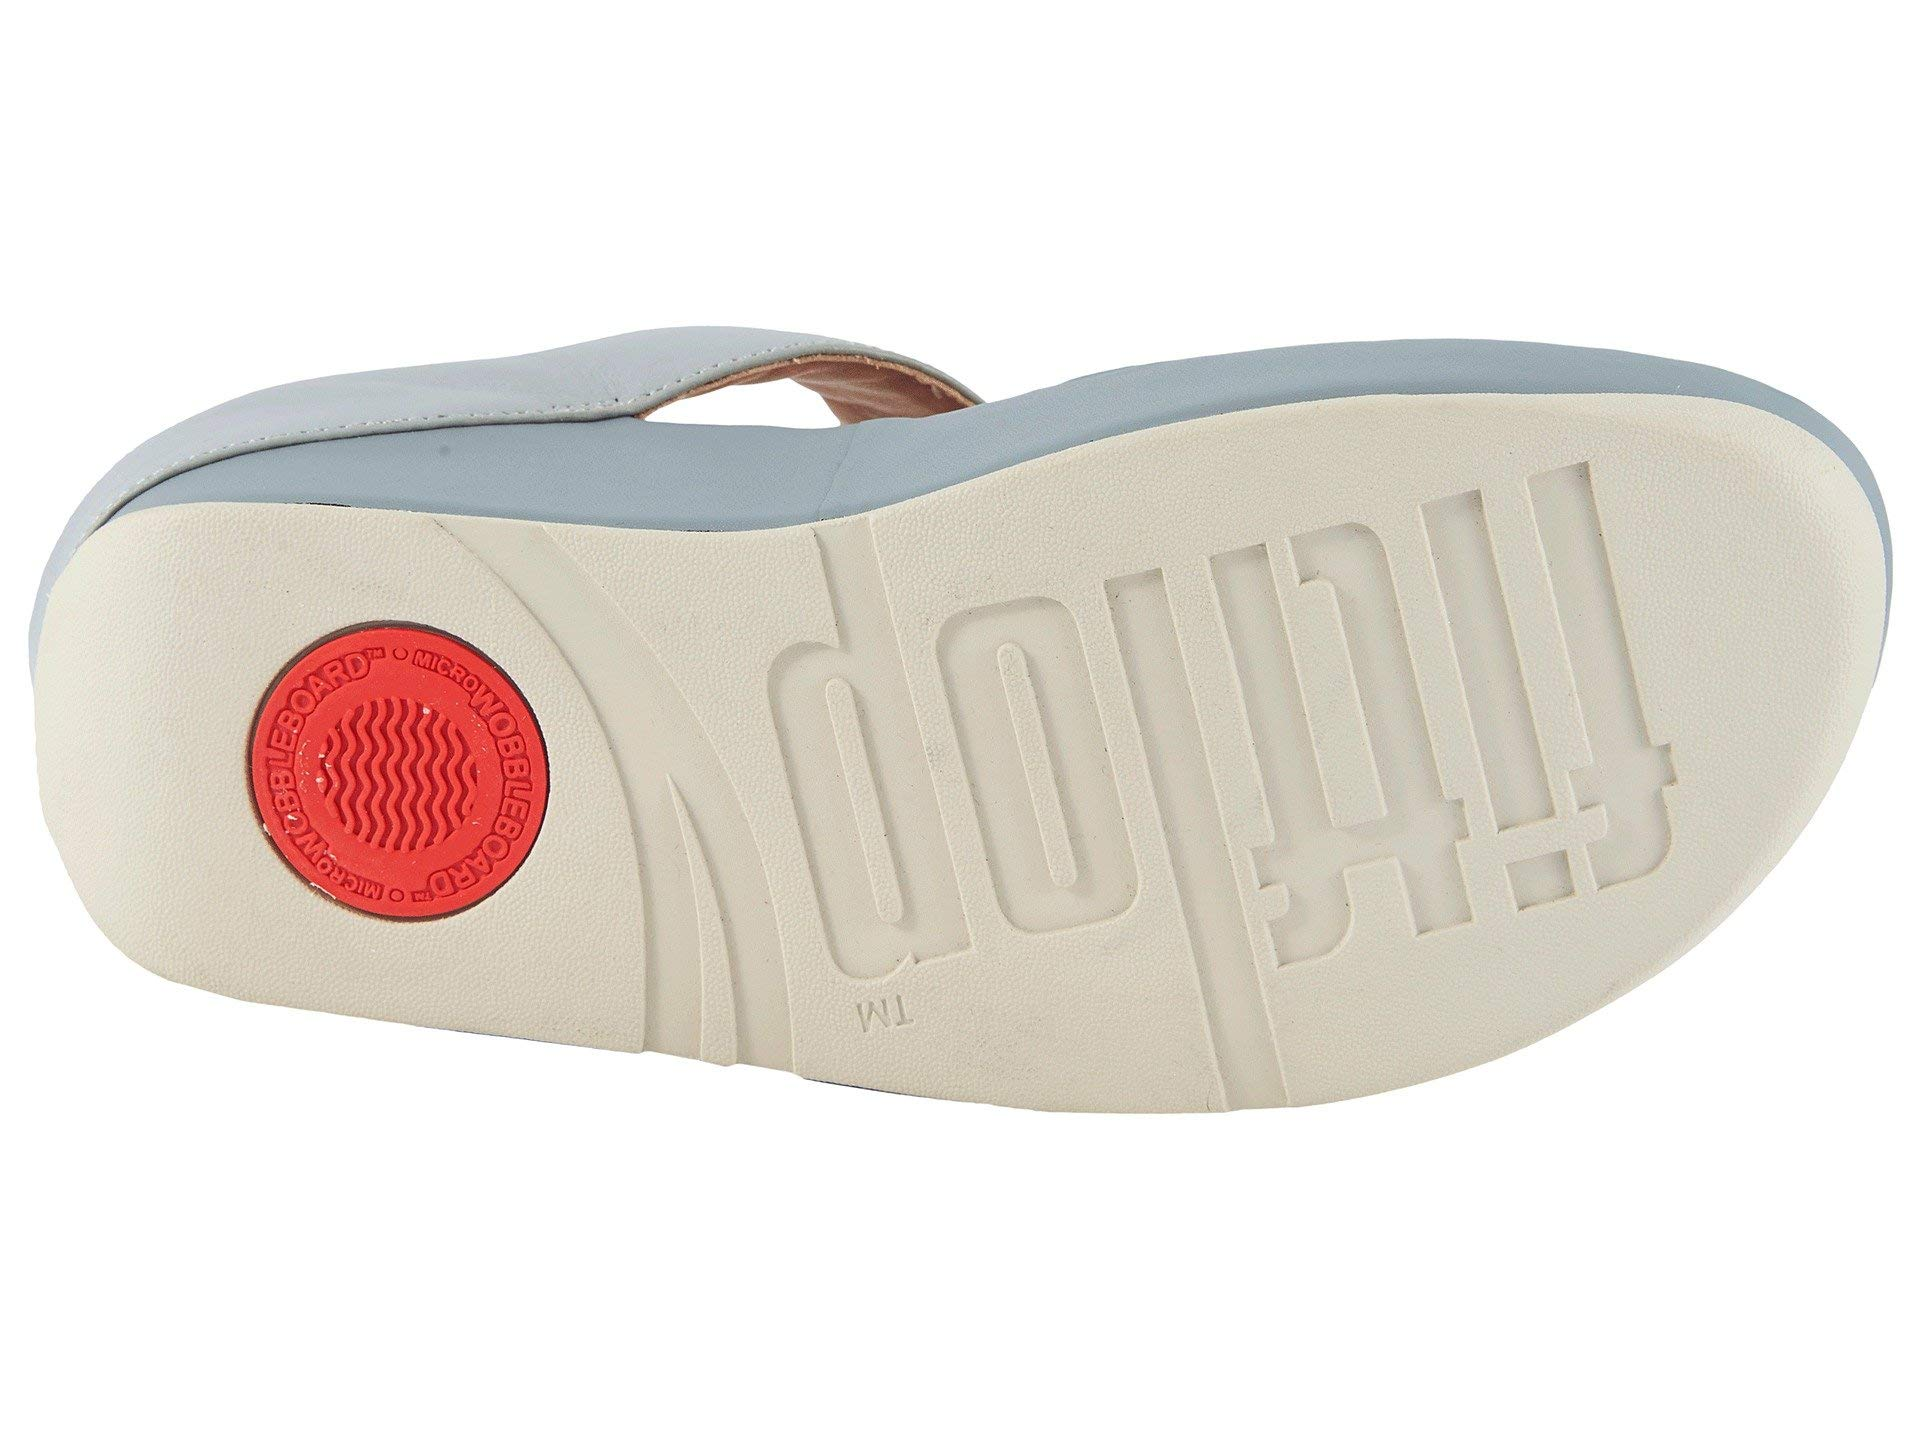chevron: (234, 614, 553, 930)
circle: (234, 614, 553, 930)
line: (735, 389, 1887, 1109)
text: (735, 389, 1887, 1109), (234, 614, 553, 930)
